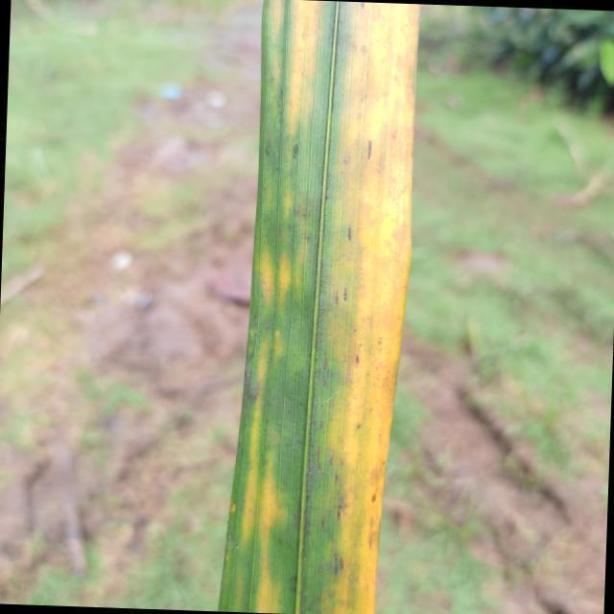Megnesium: (216, 0, 420, 614)
